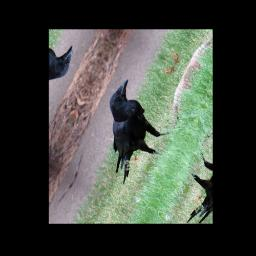Crow: (80, 74, 183, 195)
